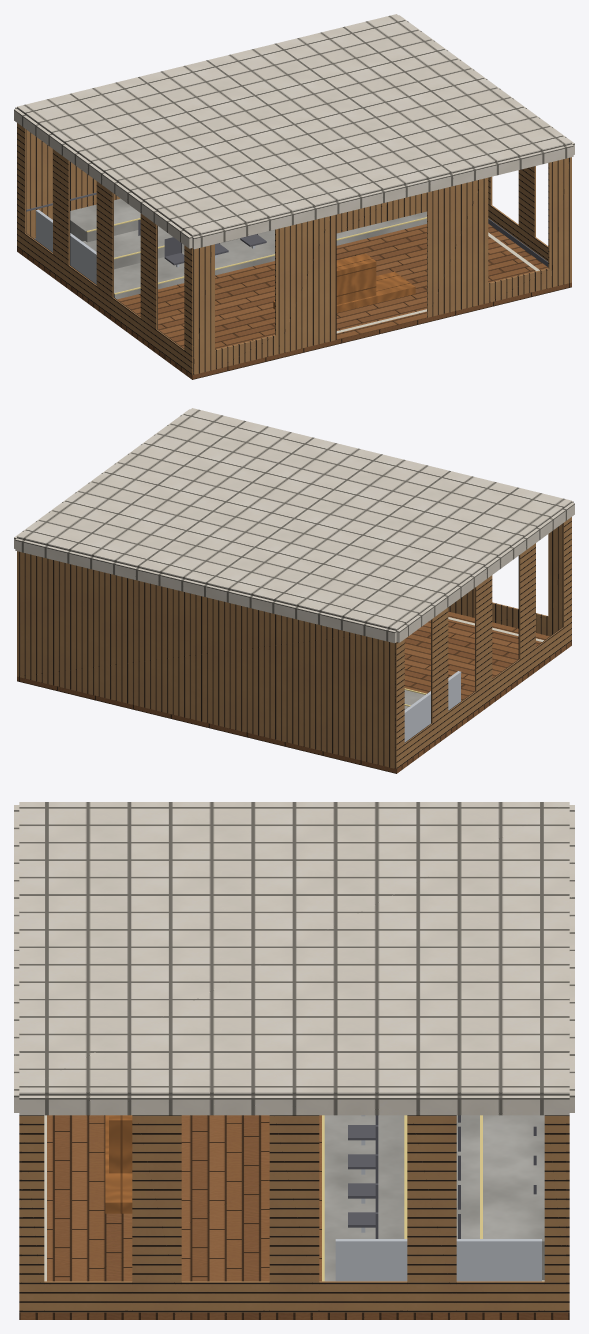
File: spaces-int-forum.glb
3 renders of one model, top to bottom at view 1: azimuth 30°, elevation 25°; view 2: azimuth 150°, elevation 25°; view 3: azimuth 270°, elevation 25°, orthographic. The views are drawn at different scales.
Parts seen in each view (by area): view 1: forum interior; view 2: forum interior; view 3: forum interior.
Boxes of the visible parts, left/top/right/bottom form: forum interior: left=14, top=14, right=574, bottom=379; forum interior: left=14, top=408, right=574, bottom=773; forum interior: left=14, top=802, right=574, bottom=1319.
Bounding box in the file's own units: 10.16 × 3.65 × 8.16.
11 materials, 5 textured.
